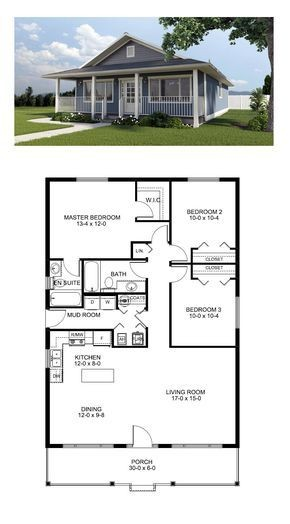door: (130, 413, 162, 453), (160, 260, 193, 287), (150, 221, 174, 254), (121, 259, 152, 282), (60, 254, 85, 282), (133, 198, 155, 220), (170, 238, 191, 260)
room: (41, 170, 247, 347), (43, 330, 243, 454)
wall: (222, 170, 244, 297), (231, 328, 248, 450), (42, 369, 61, 452), (43, 174, 55, 279), (167, 284, 184, 352), (114, 176, 189, 187), (164, 175, 174, 242), (41, 324, 54, 348)
window: (185, 162, 224, 193), (70, 436, 120, 455), (73, 169, 112, 193), (169, 439, 221, 455)
